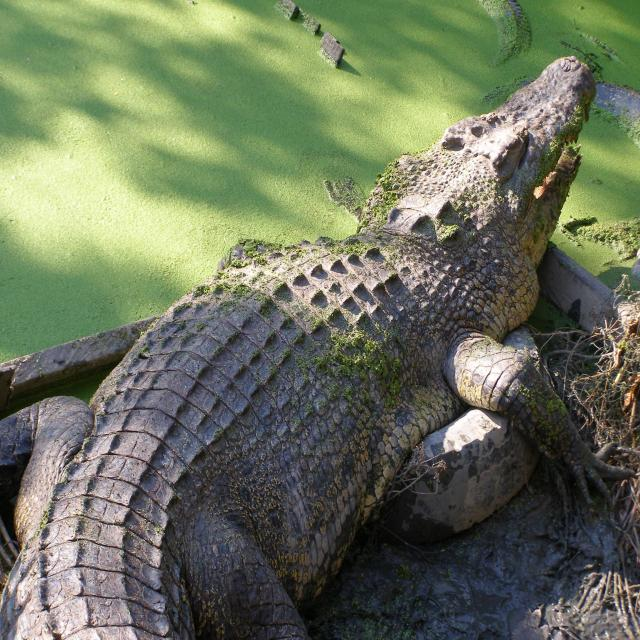crocodile: (0, 34, 640, 640)
